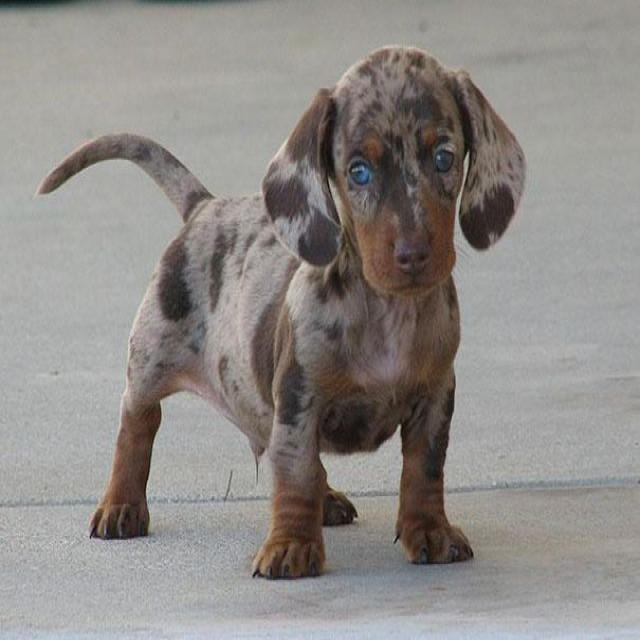dog: (235, 10, 555, 342)
